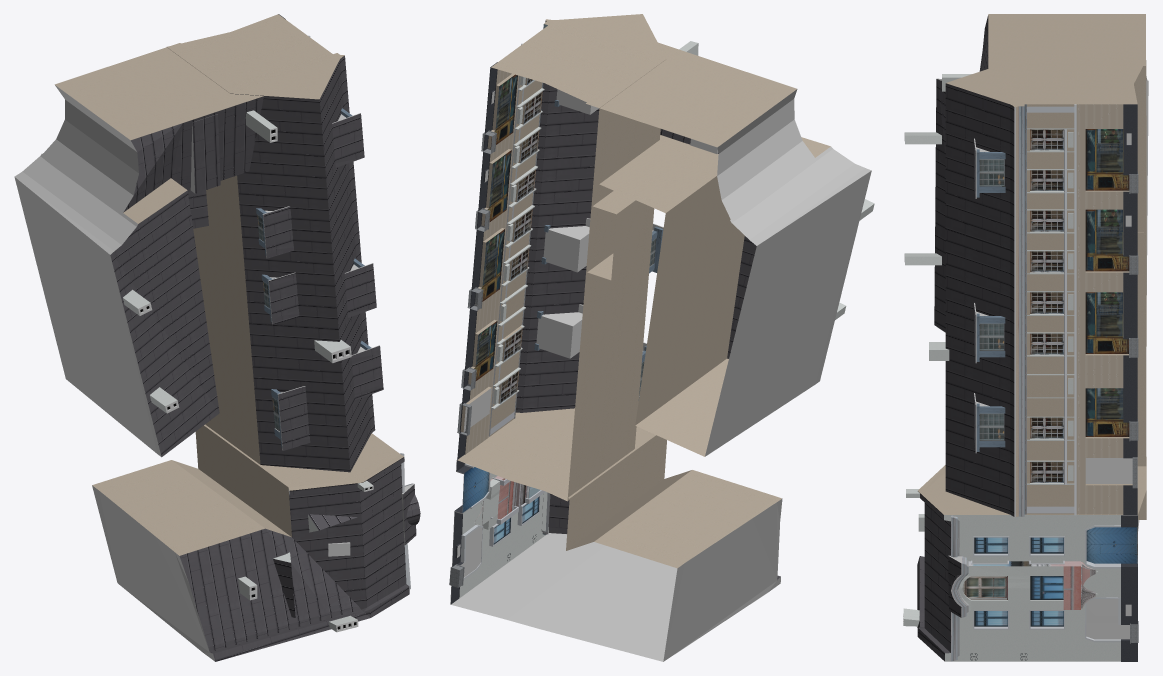
File: Uus_7.obj
3 renders of one model, left to right at view 1: azimuth 30°, elevation 25°; view 2: azimuth 150°, elevation 25°; view 3: azimuth 270°, elevation 25°, orthographic. The views are drawn at different scales.
Visible parts, largest first — view 1: uus7, xxx; view 2: uus7, xxx; view 3: uus7, xxx.
Part boxes in pixels (bbox=[...]): uus7: bbox=[54, 14, 420, 661]; xxx: bbox=[14, 85, 215, 661]; uus7: bbox=[449, 14, 874, 661]; xxx: bbox=[663, 89, 871, 661]; uus7: bbox=[903, 14, 1146, 661]; xxx: bbox=[936, 76, 1148, 530].
Size of the model in its own units: 22.55 by 35.82 by 14.58.
